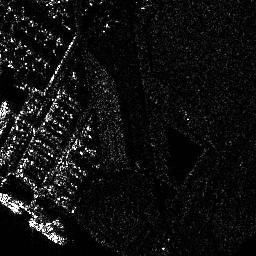ship: (28, 218, 68, 245), (1, 195, 23, 214)
